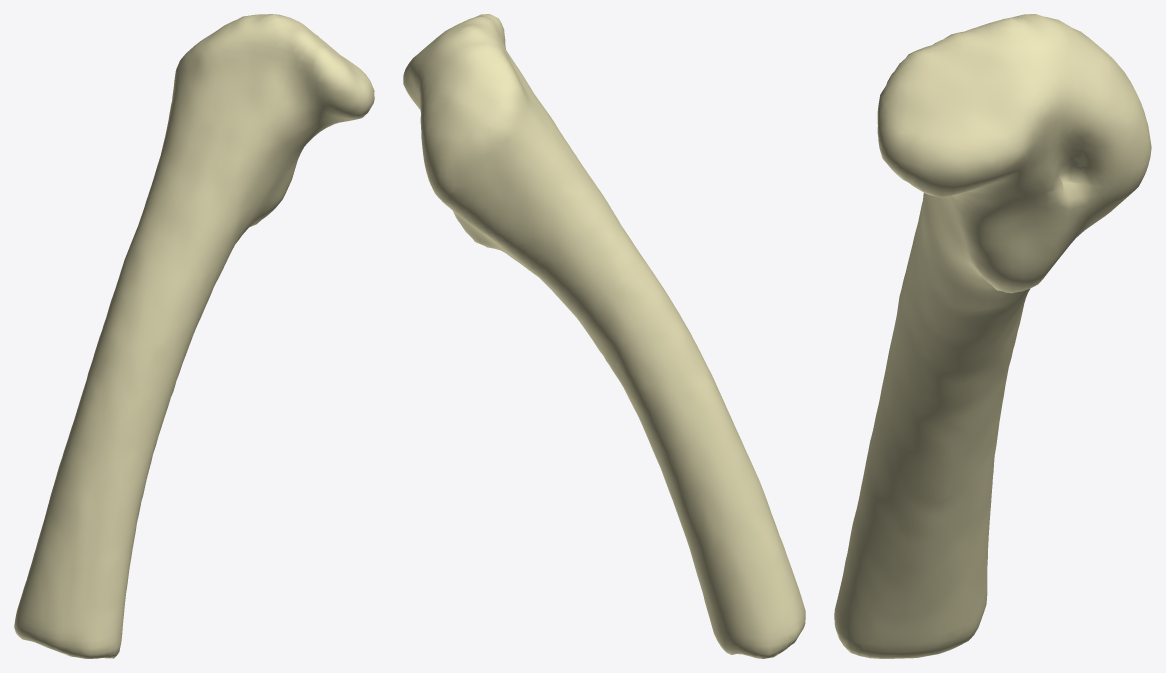
Rendered from Pat2_Mav_RightFemur.fbx.
The picture shows the model from 3 angles, left to right: view 1: azimuth 30°, elevation 25°; view 2: azimuth 150°, elevation 25°; view 3: azimuth 270°, elevation 25°; orthographic projection. The views are drawn at different scales.
Parts seen in each view (by area): view 1: sm_LeftFemur; view 2: sm_LeftFemur; view 3: sm_LeftFemur.
Boxes of the visible parts, x1,y1,x2,y2 form: sm_LeftFemur: (14,14,374,658); sm_LeftFemur: (403,14,805,658); sm_LeftFemur: (834,14,1151,658).
Bounding box in the file's own units: 49.44 × 73.19 × 26.76.
